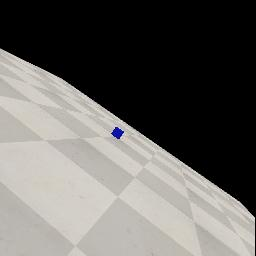box: (111, 127, 124, 139)
